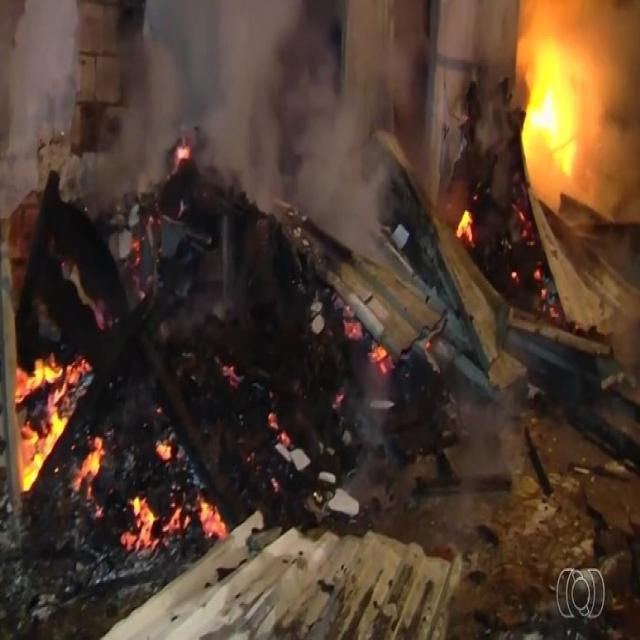Fire: (519, 18, 598, 189), (9, 353, 66, 490), (124, 497, 158, 562), (196, 498, 227, 540), (80, 425, 100, 485), (452, 212, 477, 242), (154, 438, 176, 466), (166, 506, 186, 534), (374, 333, 388, 372), (172, 146, 190, 166)
Smoke: (289, 54, 388, 265), (0, 0, 80, 213), (194, 87, 258, 214), (209, 0, 301, 81), (138, 38, 178, 199), (58, 117, 136, 192), (147, 0, 207, 81), (260, 85, 284, 218)
